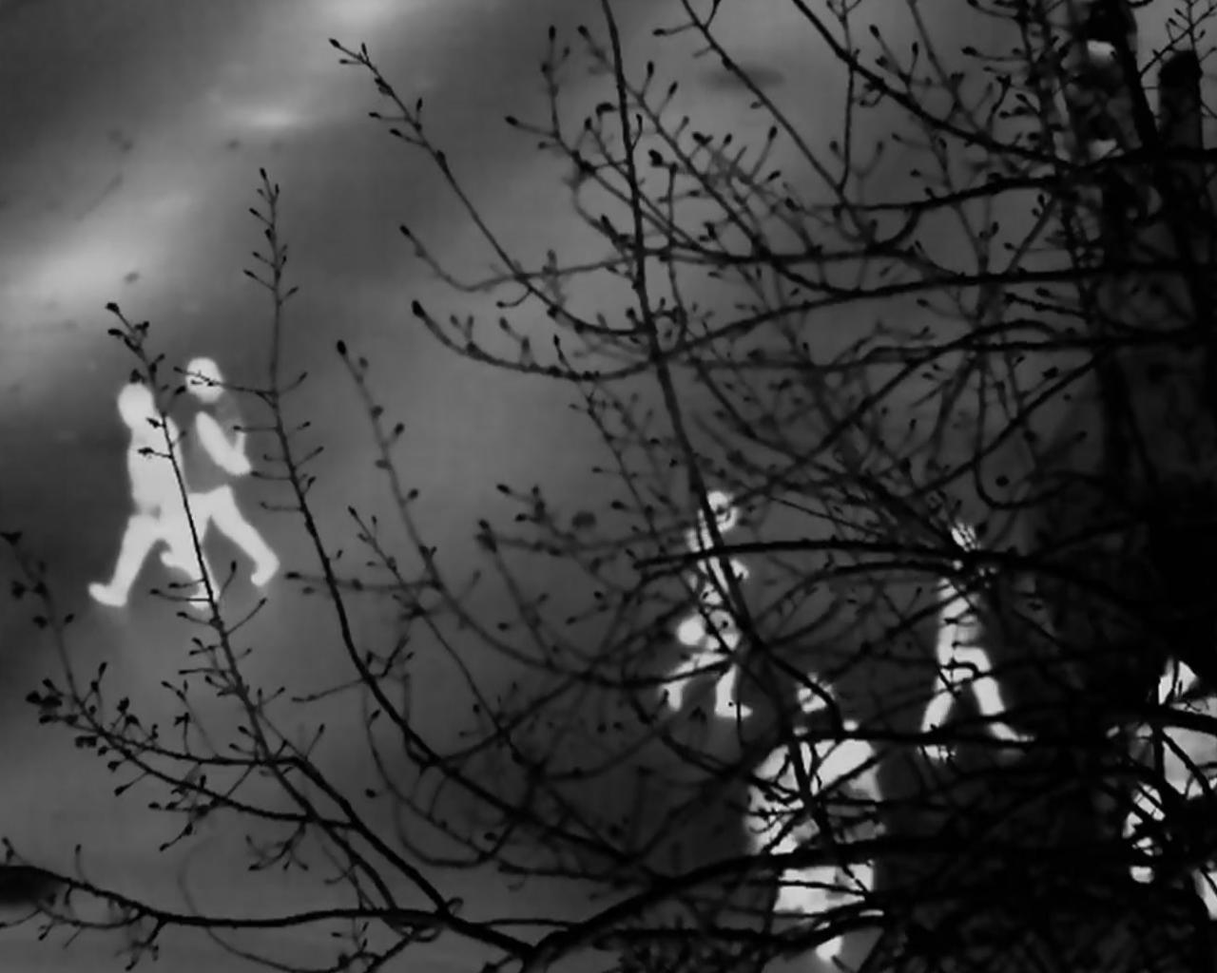person: (920, 520, 1031, 769), (760, 675, 864, 915), (658, 479, 748, 733), (171, 357, 271, 582), (123, 377, 204, 613), (1120, 658, 1217, 842)
